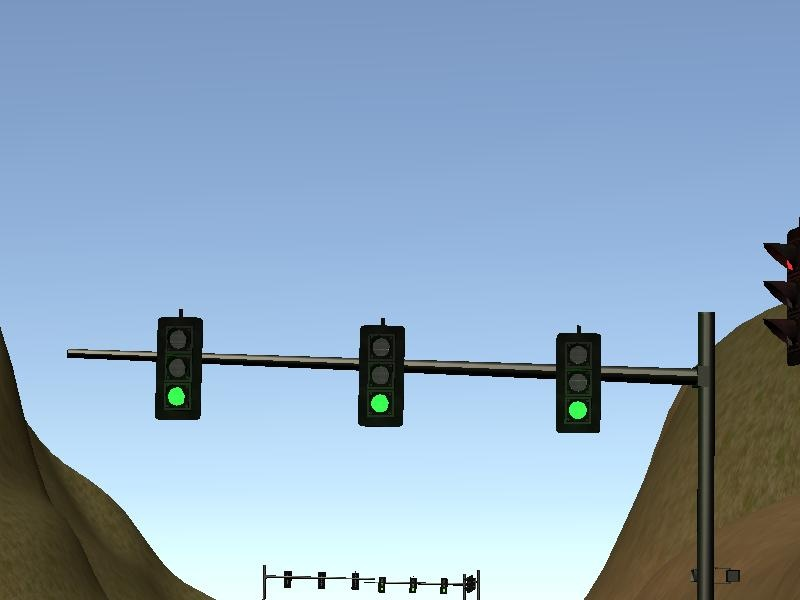green: (156, 314, 203, 421), (358, 322, 403, 424), (556, 332, 601, 433)
